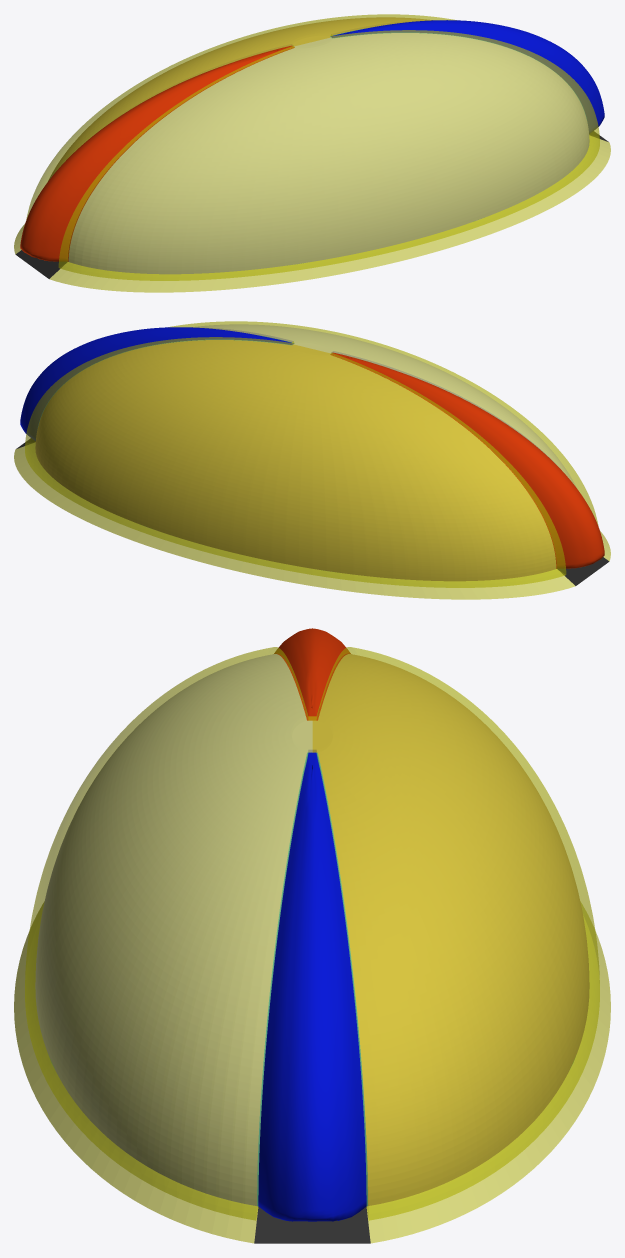
File: stadium 20.fbx
The picture shows the model from 3 angles, top to bottom: view 1: azimuth 30°, elevation 25°; view 2: azimuth 150°, elevation 25°; view 3: azimuth 270°, elevation 25°; orthographic projection. The views are drawn at different scales.
Parts seen in each view (by area): view 1: dome, socle, redGoal, blueGoal; view 2: dome, socle, redGoal, blueGoal; view 3: dome, blueGoal, socle, redGoal, blueGoalLimits.
Part boxes in pixels (bbox=[...]): dome: bbox=[26, 14, 599, 280]; socle: bbox=[14, 131, 610, 292]; redGoal: bbox=[20, 46, 293, 261]; blueGoal: bbox=[331, 20, 604, 133]; dome: bbox=[25, 321, 598, 587]; socle: bbox=[14, 438, 610, 599]; redGoal: bbox=[331, 353, 604, 568]; blueGoal: bbox=[20, 327, 293, 440]; dome: bbox=[25, 647, 599, 1220]; blueGoal: bbox=[258, 752, 366, 1221]; socle: bbox=[14, 902, 610, 1243]; redGoal: bbox=[274, 628, 350, 720]; blueGoalLimits: bbox=[257, 752, 367, 1206].
Bounding box in the file's own units: 21.74 × 5.69 × 11.22.
